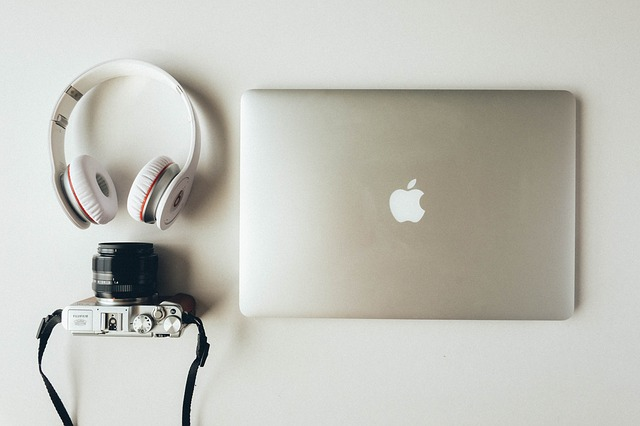headphones: (48, 59, 201, 232)
